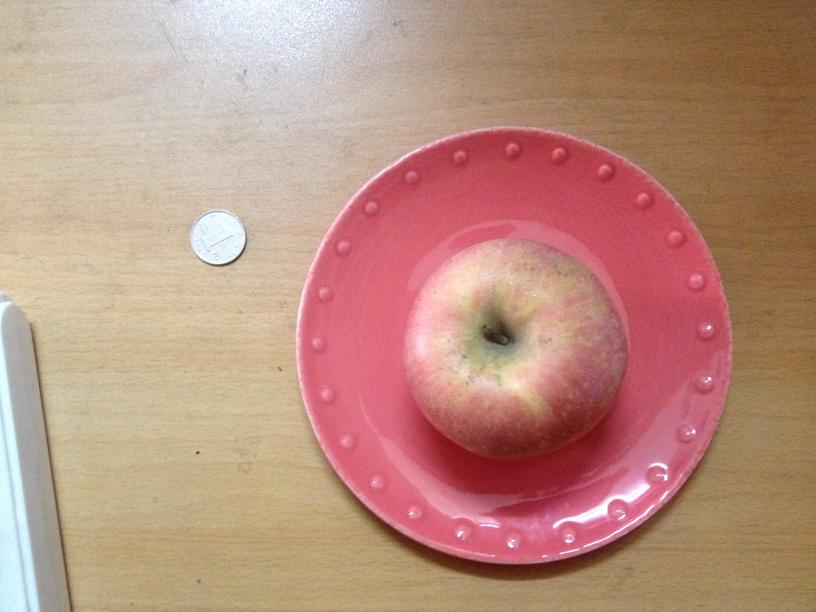apple: (402, 235, 627, 459)
coin: (188, 211, 246, 267)
